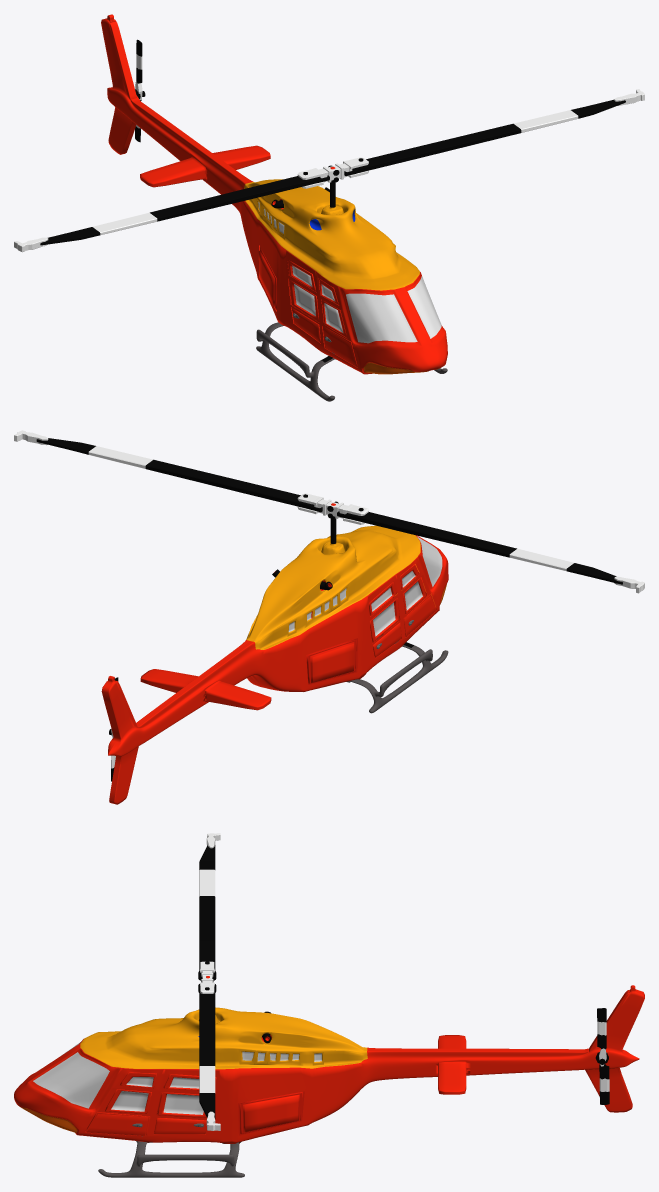
File: helicopter lowpoly.fbx
3 views of the same model, one above another, from view 1: azimuth 30°, elevation 25°; view 2: azimuth 150°, elevation 25°; view 3: azimuth 270°, elevation 25° (orthographic). The views are drawn at different scales.
Visible parts, largest first — view 1: body_helicopter, baling baling_1, body_helicopter.001; view 2: body_helicopter, baling baling_1, body_helicopter.001; view 3: body_helicopter, baling baling_1, body_helicopter.001, baling-baling_2.
Boxes of the visible parts, <box> form: body_helicopter: <box>101,14,447,374</box>; baling baling_1: <box>14,89,644,252</box>; body_helicopter.001: <box>256,322,447,401</box>; body_helicopter: <box>101,503,448,804</box>; baling baling_1: <box>14,430,644,593</box>; body_helicopter.001: <box>346,634,448,713</box>; body_helicopter: <box>14,976,644,1143</box>; baling baling_1: <box>198,833,220,1130</box>; body_helicopter.001: <box>98,1136,244,1177</box>; baling-baling_2: <box>597,1008,609,1104</box>.
Bounding box in the file's own units: 1973 × 554 × 1801.
